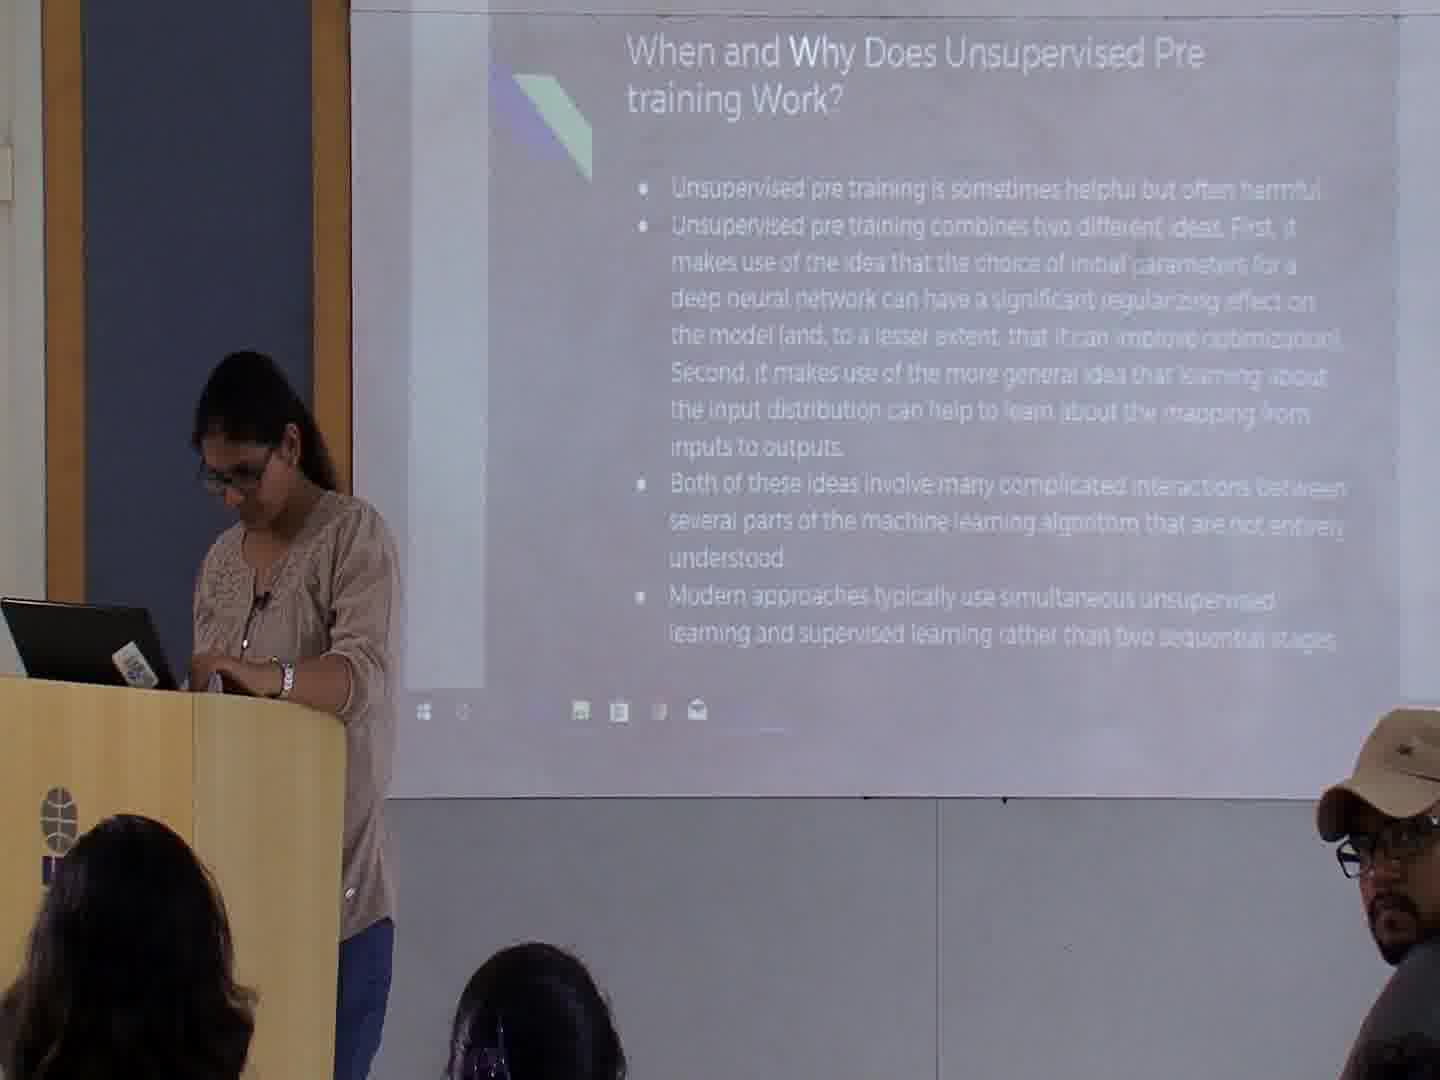slide: (407, 2, 1440, 728)
